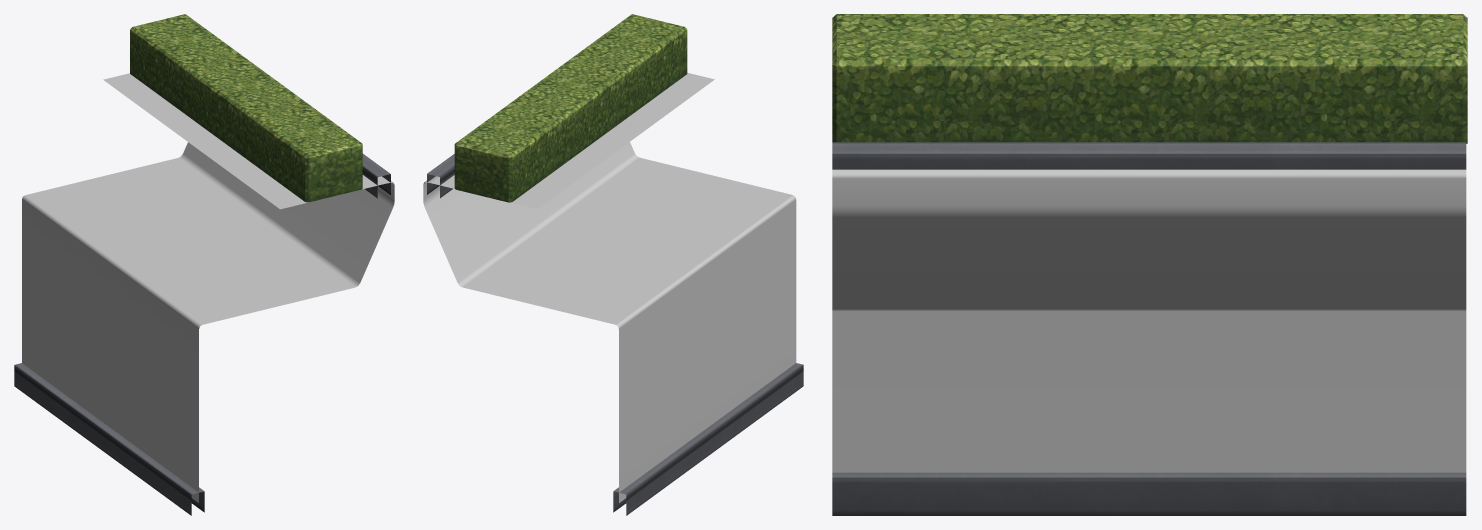
Rendered from mesh_1002_zc_building07a.FBX.
3 renders of one model, left to right at view 1: azimuth 30°, elevation 25°; view 2: azimuth 150°, elevation 25°; view 3: azimuth 270°, elevation 25°, orthographic. The views are drawn at different scales.
Parts seen in each view (by area): view 1: mesh_1002_zc_building07a, mesh_1002_plant02, mesh_1002_zc_building07b, mesh_1002_zc_building07c; view 2: mesh_1002_zc_building07a, mesh_1002_plant02, mesh_1002_zc_building07b, mesh_1002_zc_building07c; view 3: mesh_1002_zc_building07a, mesh_1002_plant02, mesh_1002_zc_building07b.
Boxes of the visible parts, <box> form: mesh_1002_zc_building07a: <box>22,142,394,502</box>; mesh_1002_plant02: <box>130,14,362,202</box>; mesh_1002_zc_building07b: <box>14,153,390,515</box>; mesh_1002_zc_building07c: <box>103,73,386,209</box>; mesh_1002_zc_building07a: <box>423,142,796,502</box>; mesh_1002_plant02: <box>454,14,687,202</box>; mesh_1002_zc_building07b: <box>427,154,803,515</box>; mesh_1002_zc_building07c: <box>431,72,714,209</box>; mesh_1002_zc_building07a: <box>832,169,1466,472</box>; mesh_1002_plant02: <box>832,14,1467,143</box>; mesh_1002_zc_building07b: <box>832,142,1466,515</box>.
Size of the model in its own units: 636 by 991 by 963.
